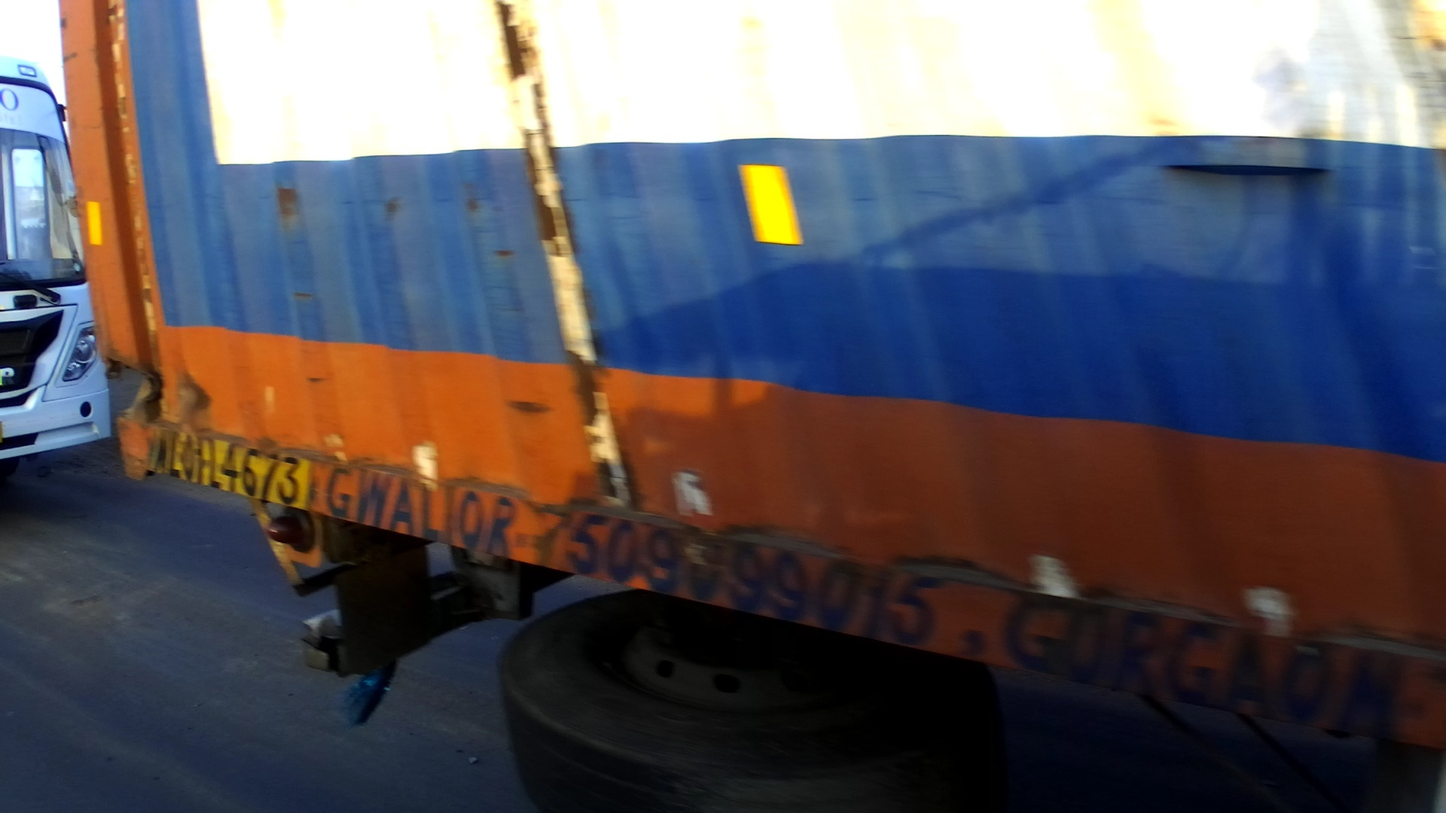bus: (2, 56, 114, 510)
truck: (61, 1, 1446, 813)
